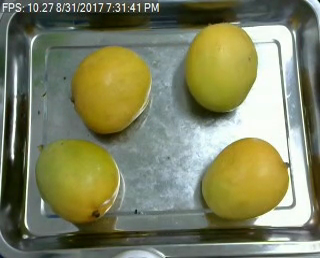Mango: (35, 139, 119, 223), (203, 139, 289, 221), (72, 45, 151, 133), (186, 21, 257, 113)
